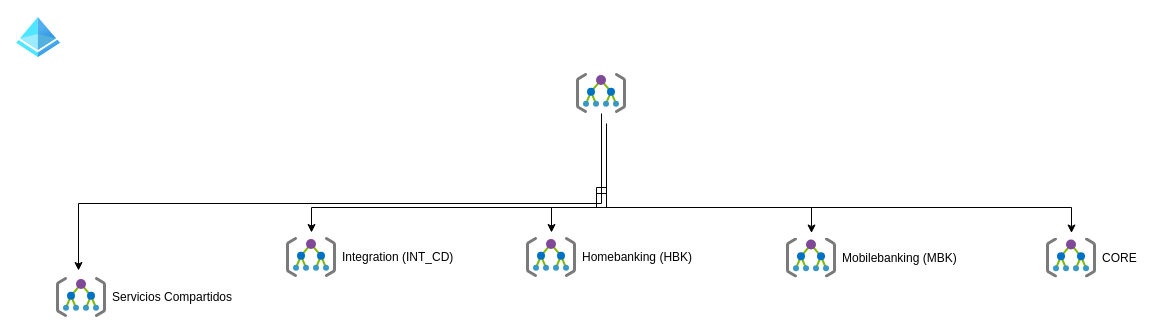
This 1155x334 diagram has some shape labels left out. The shapes that lost their labels are listed below. From the top down, each one's centre as x and y in pixels, then its label:
At point 38,37: "Tenant Root Group Banco".
At point 601,93: "BANCO".
